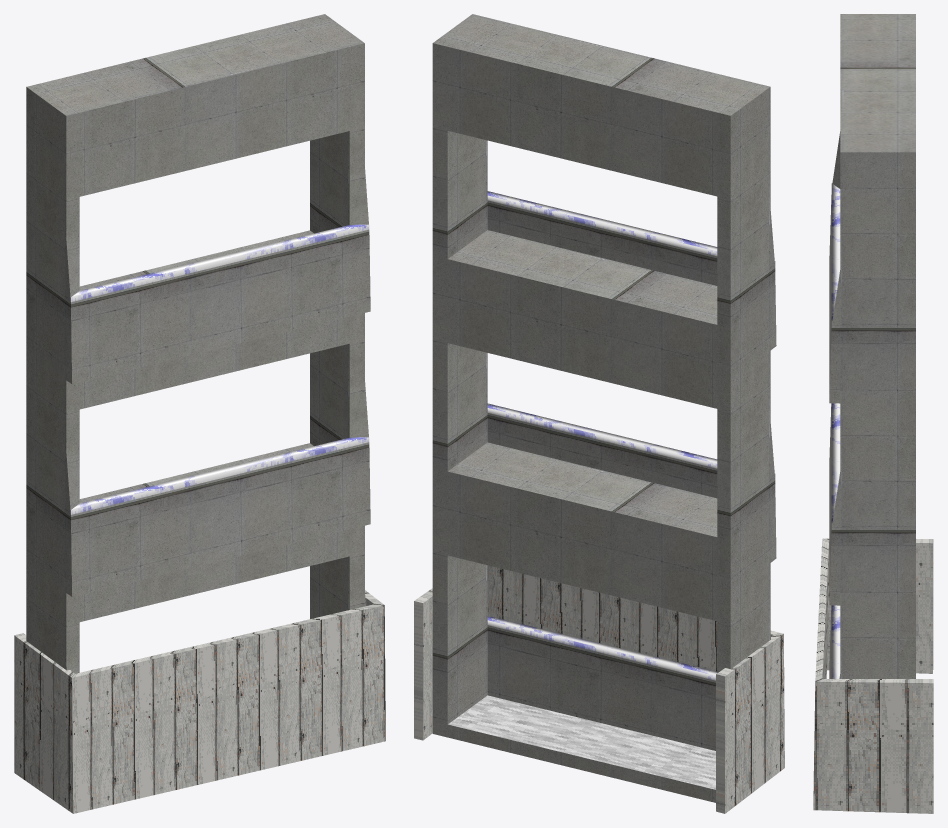
The model's file is kp_balconies_4x_A.glb.
The picture shows the model from 3 angles, left to right: view 1: azimuth 30°, elevation 25°; view 2: azimuth 150°, elevation 25°; view 3: azimuth 270°, elevation 25°; orthographic projection. The views are drawn at different scales.
Visible parts, largest first — view 1: kp_balconies_col, roomA-parveke-col.002; view 2: kp_balconies_col, roomA-parveke-col.002; view 3: kp_balconies_col, roomA-parveke-col.002.
Part boxes in pixels (x1,y1,x2,y2): kp_balconies_col: (26,14,370,673); roomA-parveke-col.002: (14,590,385,813); kp_balconies_col: (432,14,776,802); roomA-parveke-col.002: (414,565,784,813); kp_balconies_col: (829,14,915,678); roomA-parveke-col.002: (813,538,933,813).
Size of the model in its own units: 4.68 by 9.93 by 1.65.
4 materials, 4 textured.
